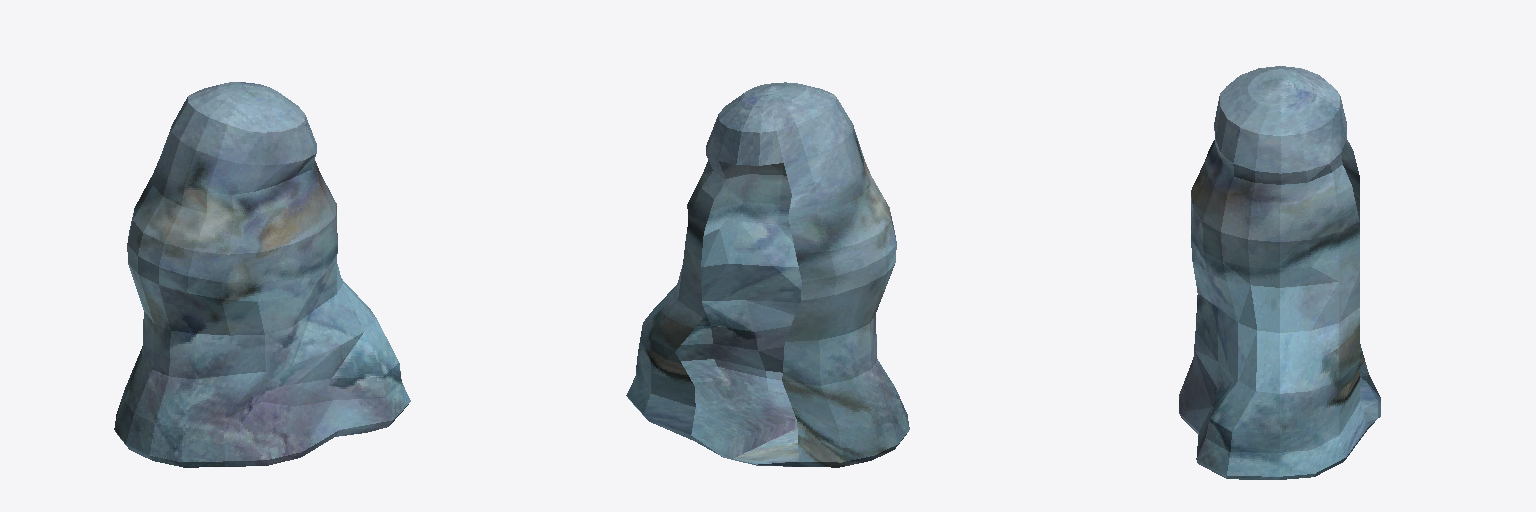
3 renders of one model, left to right at view 1: azimuth 30°, elevation 25°; view 2: azimuth 150°, elevation 25°; view 3: azimuth 270°, elevation 25°, orthographic.
Visible parts, largest first — view 1: group1.001; view 2: group1.001; view 3: group1.001.
Part boxes in pixels (x1,y1,x2,y2): group1.001: (114, 82, 410, 467); group1.001: (626, 82, 909, 467); group1.001: (1179, 66, 1380, 479).
Size of the model in its own units: 24.18 by 30.29 by 16.26.
Materials: 1 (1 with a texture image).